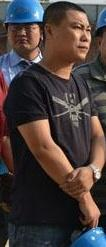hard-hat: (2, 0, 43, 23)
